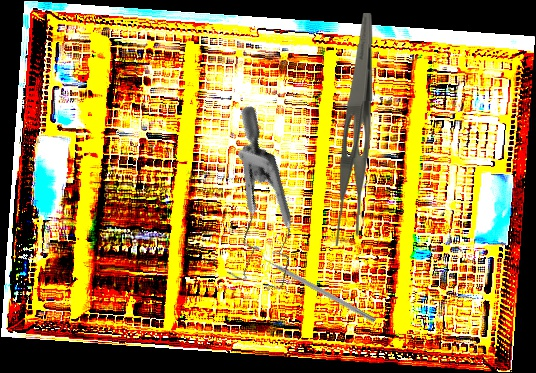Chopper: (255, 247, 380, 323)
Dressing Forceps: (330, 12, 375, 247)
Speculum: (154, 103, 351, 310)
